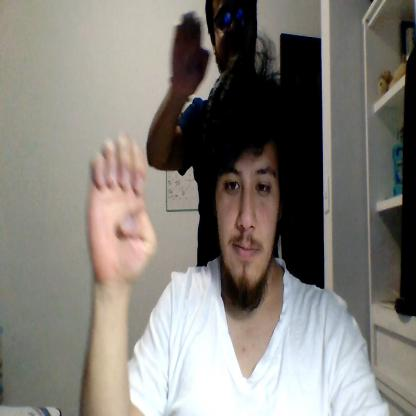E: (85, 135, 156, 280)
